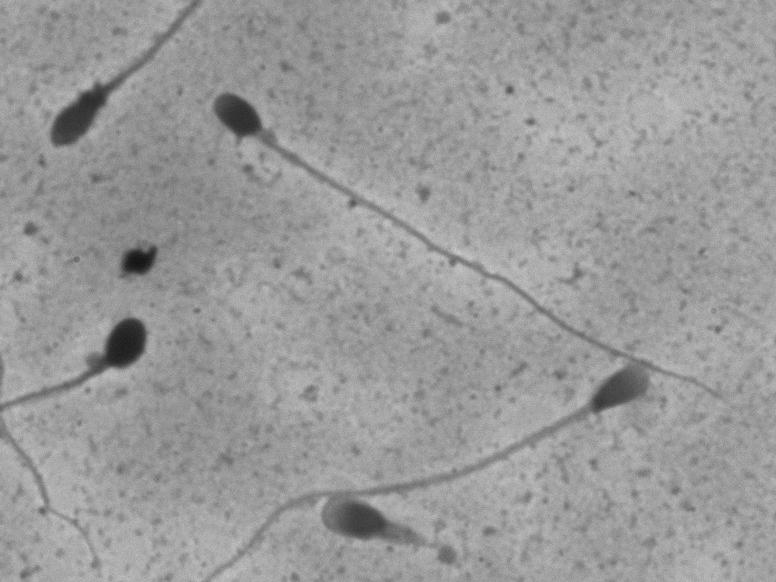Abnormal: (13, 292, 157, 562), (22, 12, 176, 187), (309, 490, 443, 572)
Normal: (197, 67, 745, 422)
